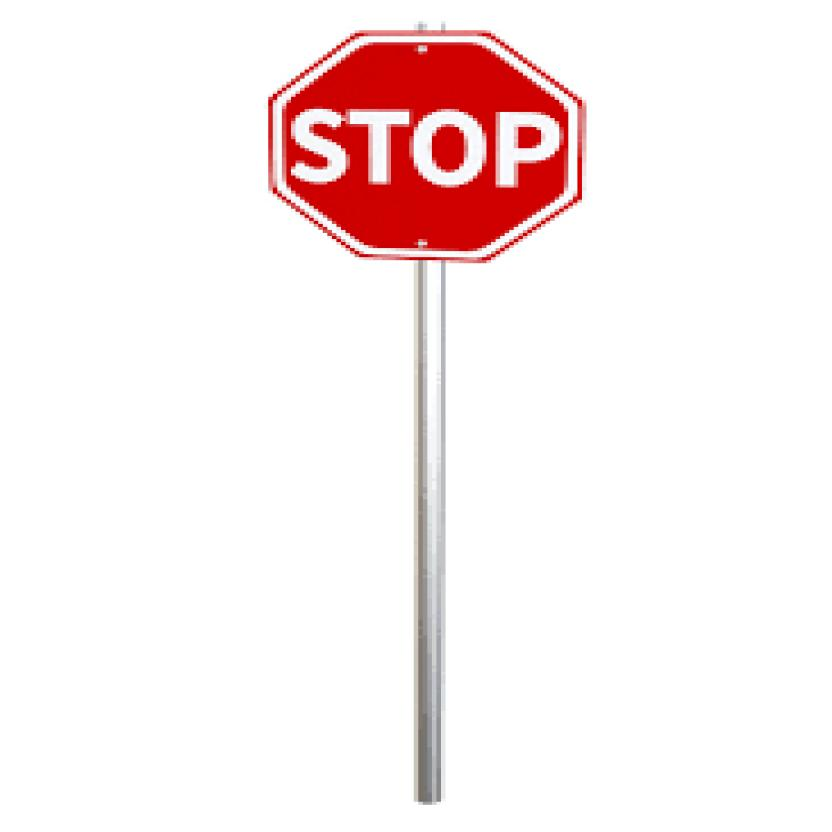Pole: (414, 266, 444, 801)
Sign: (259, 30, 582, 263)
